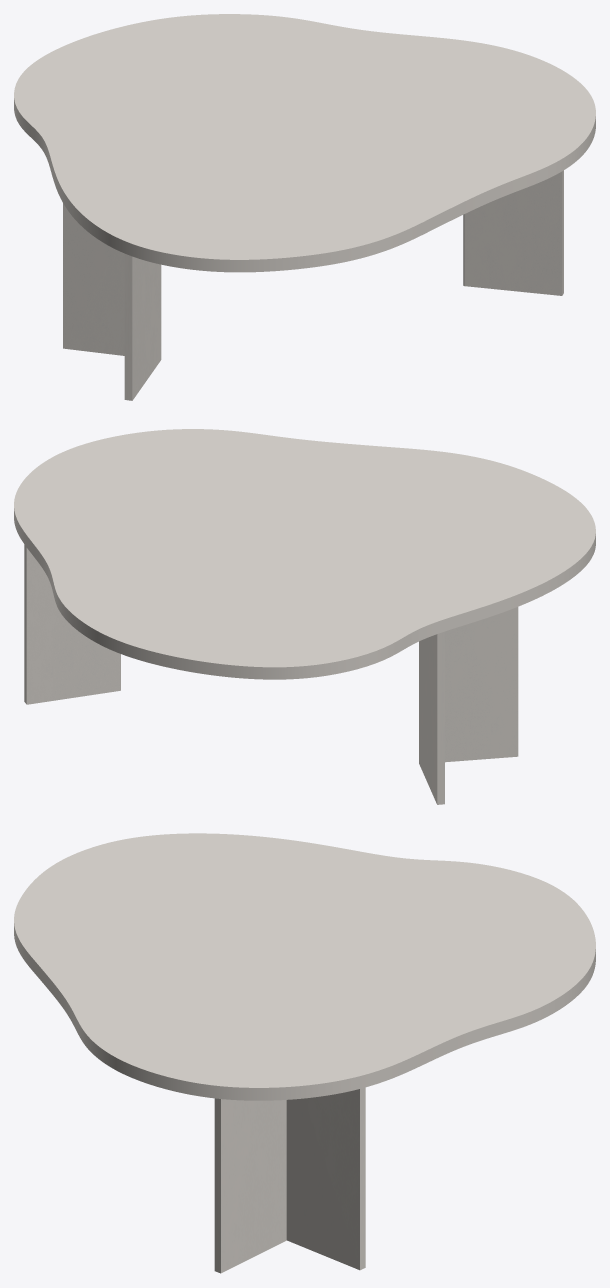
File: pearlwhite_topone_standard_valleyv.glb
The picture shows the model from 3 angles, top to bottom: view 1: azimuth 30°, elevation 25°; view 2: azimuth 150°, elevation 25°; view 3: azimuth 270°, elevation 25°; orthographic projection. The views are drawn at different scales.
Parts seen in each view (by area): view 1: standard_topone, valleyv; view 2: standard_topone, valleyv; view 3: standard_topone, valleyv.
Boxes of the visible parts, <box> form: standard_topone: <box>14,14,595,272</box>; valleyv: <box>63,170,563,400</box>; standard_topone: <box>14,429,595,679</box>; valleyv: <box>24,544,518,804</box>; standard_topone: <box>14,833,595,1100</box>; valleyv: <box>214,1087,365,1273</box>.
Bounding box in the file's own units: 6.83 × 2.5 × 6.6.
Materials: 1 (1 with a texture image).
